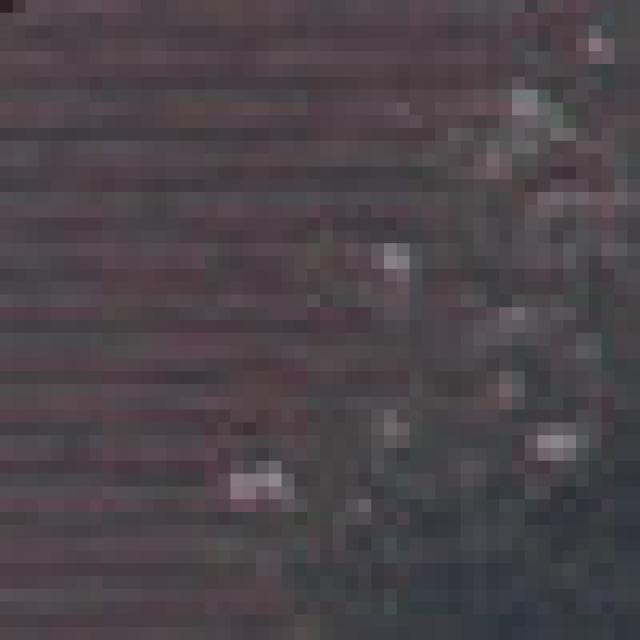no_fire: (15, 16, 627, 590)
